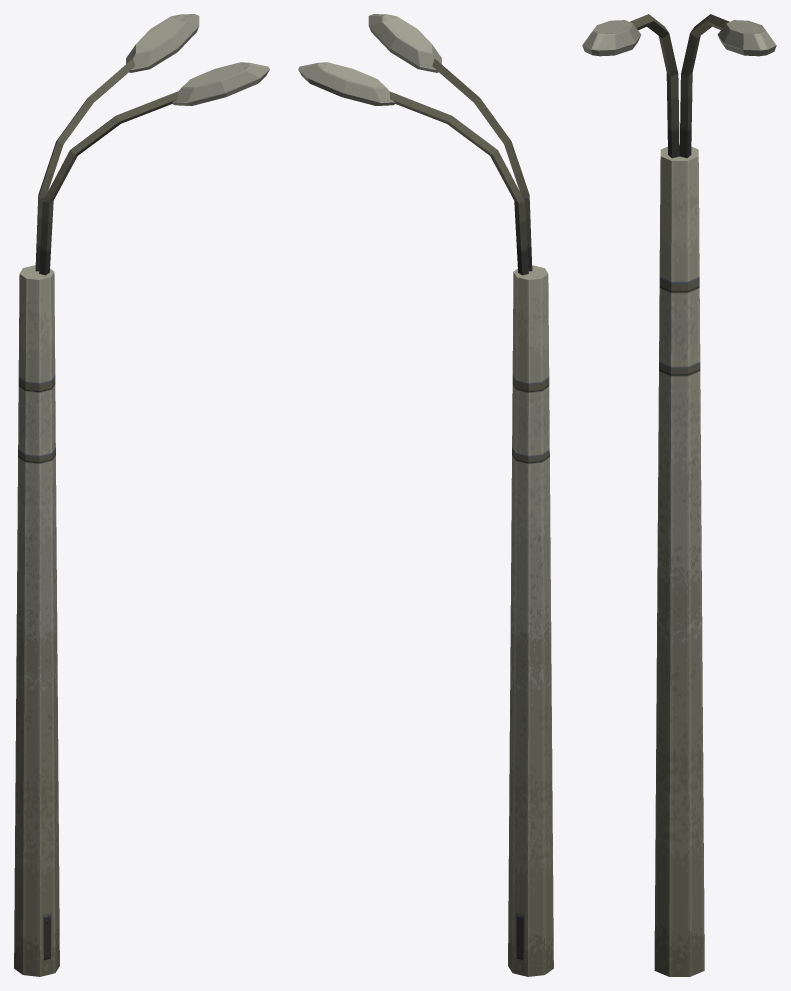
Rendered from lightpost2.fbx.
3 views of the same model, side by side, from view 1: azimuth 30°, elevation 25°; view 2: azimuth 150°, elevation 25°; view 3: azimuth 270°, elevation 25° (orthographic). The views are drawn at different scales.
Visible parts, largest first — view 1: Cylinder.001; view 2: Cylinder.001; view 3: Cylinder.001.
Boxes of the visible parts, bbox=[...] form: Cylinder.001: bbox=[14, 14, 269, 976]; Cylinder.001: bbox=[298, 14, 553, 976]; Cylinder.001: bbox=[582, 14, 776, 976].
Bounding box in the file's own units: 152 × 227 × 891.
Materials: 1 (1 with a texture image).
